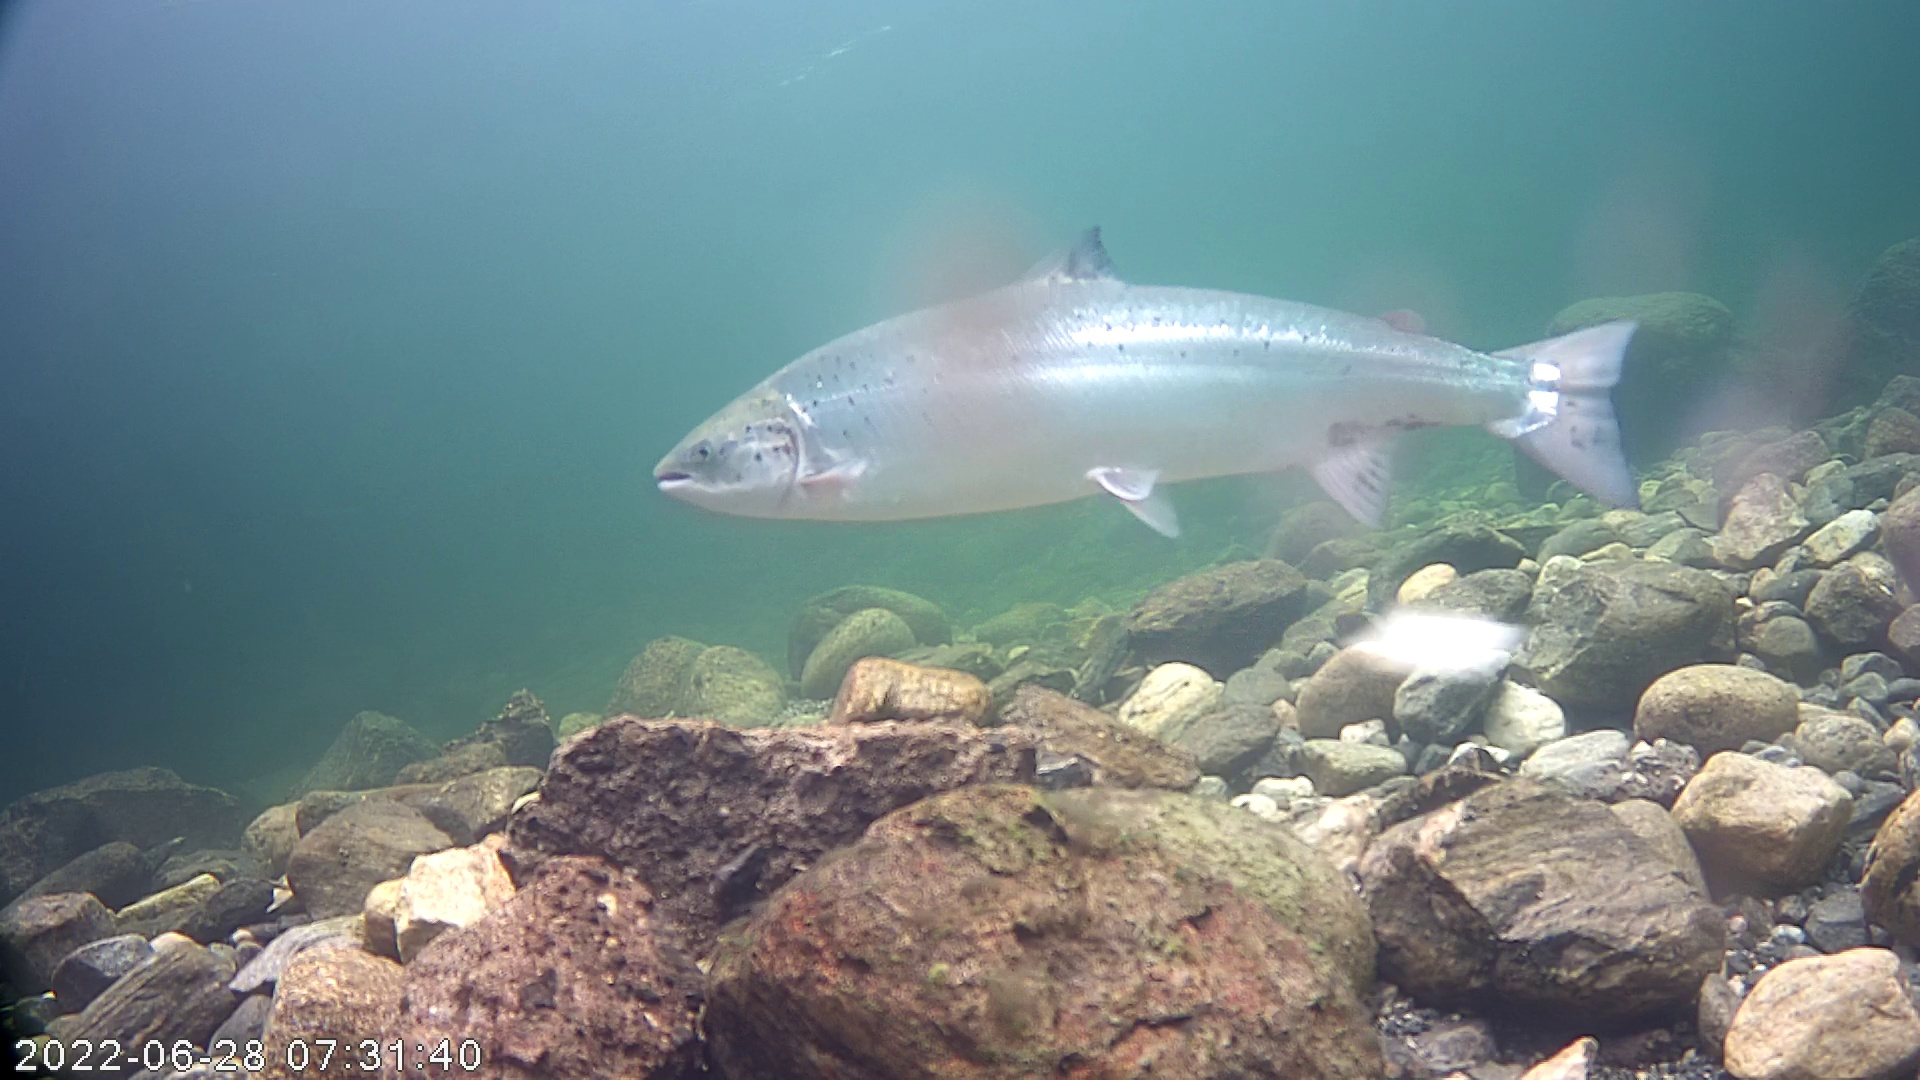salmon: (645, 127, 1689, 599)
